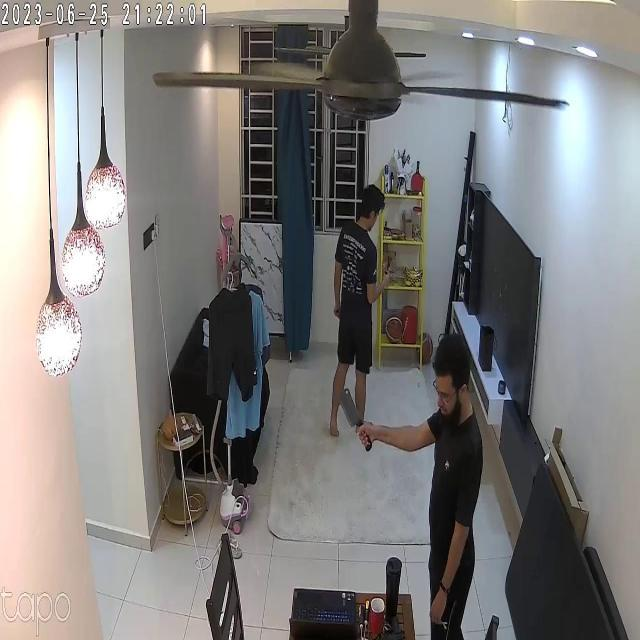Knife: (332, 382, 378, 452)
